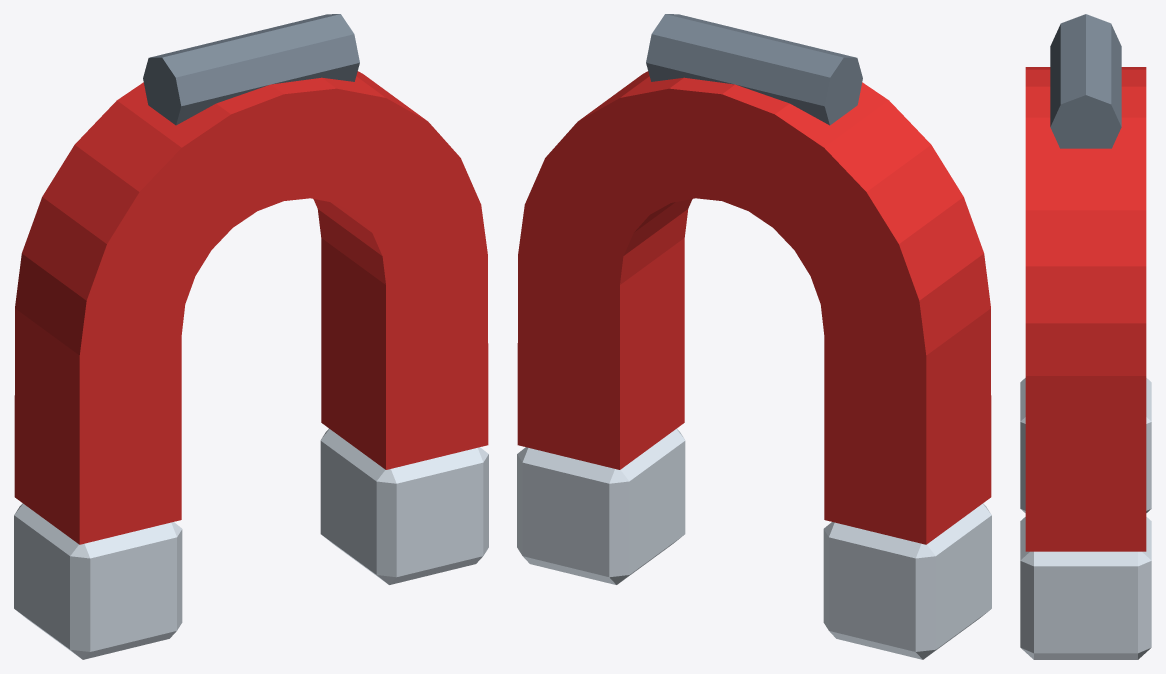
Rendered from tool_magnet.fbx.
3 views of the same model, side by side, from view 1: azimuth 30°, elevation 25°; view 2: azimuth 150°, elevation 25°; view 3: azimuth 270°, elevation 25° (orthographic). The views are drawn at different scales.
Visible parts, largest first — view 1: tool_magnet; view 2: tool_magnet; view 3: tool_magnet.
Boxes of the visible parts, left/top/right/bottom form: tool_magnet: left=14, top=14, right=488, bottom=659; tool_magnet: left=517, top=14, right=991, bottom=659; tool_magnet: left=1020, top=14, right=1151, bottom=659.
Size of the model in its own units: 1.64 by 2.08 by 0.48.
